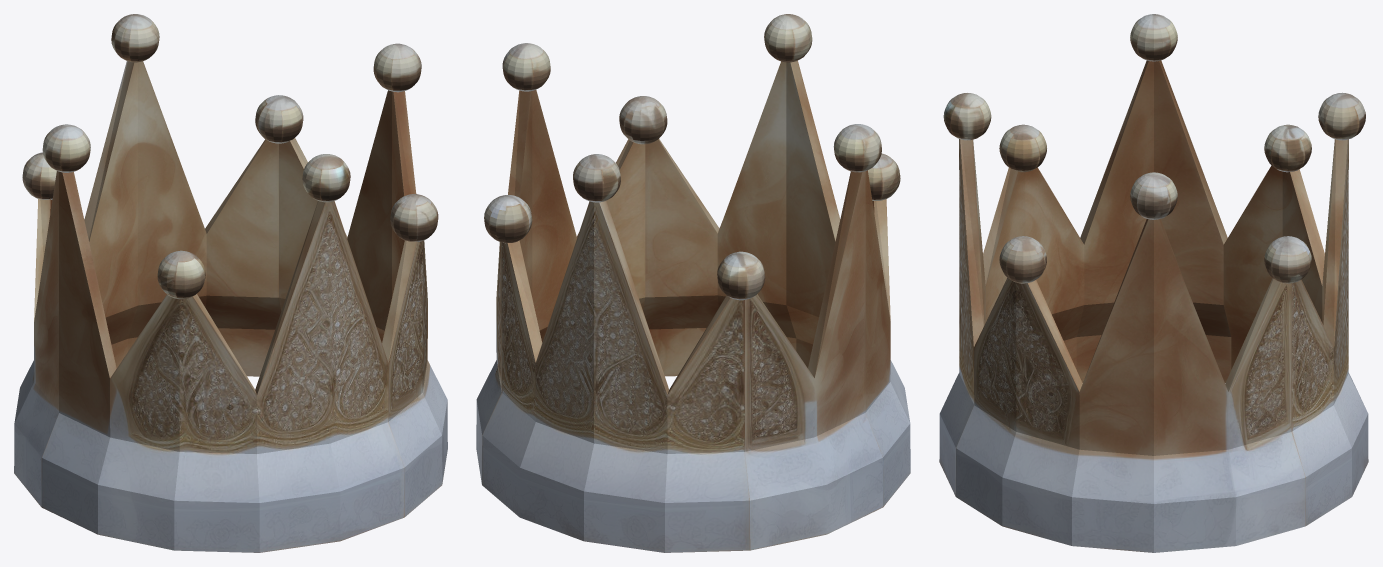
3 renders of one model, left to right at view 1: azimuth 30°, elevation 25°; view 2: azimuth 150°, elevation 25°; view 3: azimuth 270°, elevation 25°, orthographic. The views are drawn at different scales.
Visible parts, largest first — view 1: mesh.015; view 2: mesh.015; view 3: mesh.015.
Part boxes in pixels (x1,y1,x2,y2): mesh.015: (14, 14, 447, 552); mesh.015: (476, 14, 910, 552); mesh.015: (939, 14, 1368, 552).
Bounding box in the file's own units: 0.673 × 0.6361 × 0.673.
1 material, 1 textured.
